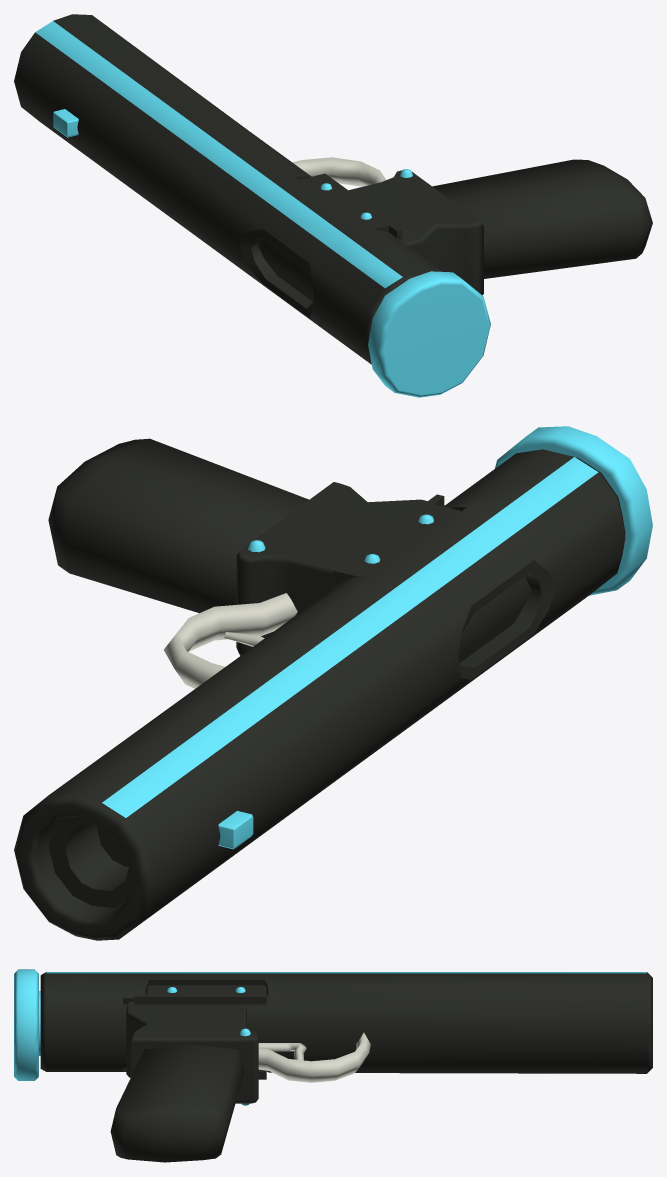
File: akane.glb
3 views of the same model, one above another, from view 1: azimuth 30°, elevation 25°; view 2: azimuth 150°, elevation 25°; view 3: azimuth 270°, elevation 25° (orthographic). The views are drawn at different scales.
Visible parts, largest first — view 1: Akane_Original_Weapon; view 2: Akane_Original_Weapon; view 3: Akane_Original_Weapon.
Part boxes in pixels (box(x1,y1,x2,y2)): Akane_Original_Weapon: box(14, 14, 652, 397); Akane_Original_Weapon: box(14, 426, 652, 940); Akane_Original_Weapon: box(14, 969, 652, 1162).
Size of the model in its own units: 0.1249 by 0.0397 by 0.2301.
Materials: 1 (1 with a texture image).
